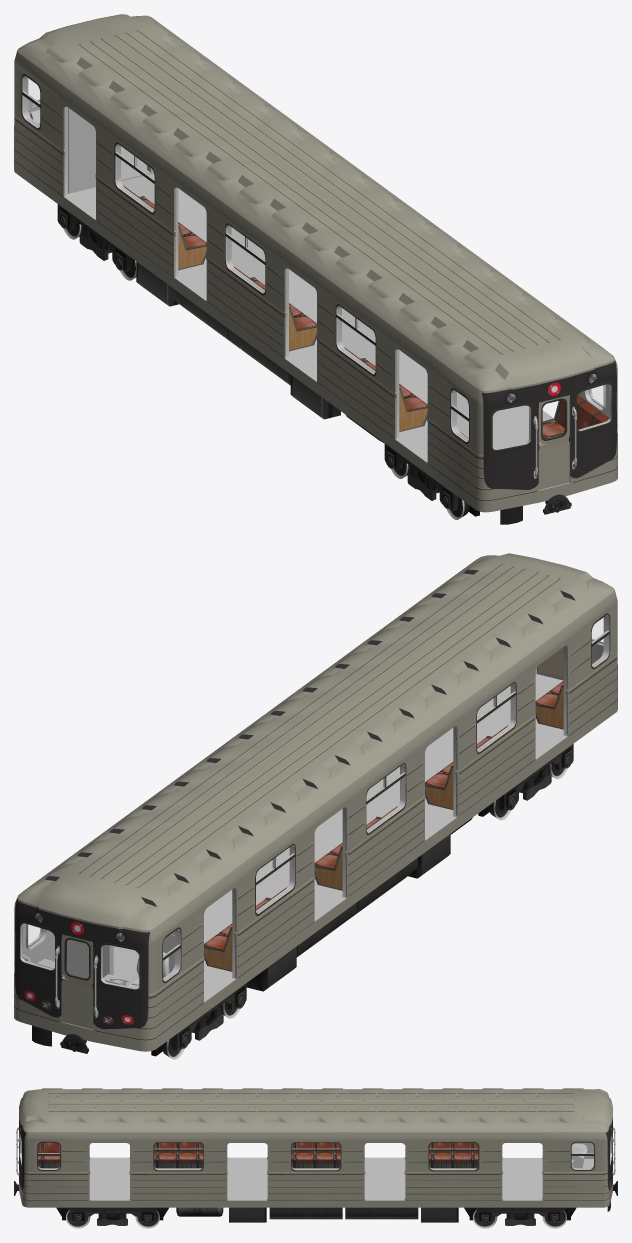
Rendered from SubwayTrain04_Body1.FBX.
3 renders of one model, top to bottom at view 1: azimuth 30°, elevation 25°; view 2: azimuth 150°, elevation 25°; view 3: azimuth 270°, elevation 25°, orthographic. The views are drawn at different scales.
Parts seen in each view (by area): view 1: SubwayTrain04_Roof, SubwayTrain04_Body1, SubwayTrain04_Inter, SubwayTrain04_Wheels, SubwayTrain_Bench02aa, SubwayTrain04_InterEnter, SubwayTrain_Bench02a, SubwayTrain04_DoorF1; view 2: SubwayTrain04_Roof, SubwayTrain04_Body1, SubwayTrain04_Inter, SubwayTrain04_Wheels, SubwayTrain_Bench02a, SubwayTrain04_DoorF2, SubwayTrain_Bench02aa, SubwayTrain04_InterEnter, SubwayTrain04_Inter2; view 3: SubwayTrain04_Body1, SubwayTrain04_Roof, SubwayTrain04_Inter, SubwayTrain04_Wheels, SubwayTrain_Bench02aa, SubwayTrain04_Inter2.
Boxes of the visible parts, x1,y1,x2,y2 form: SubwayTrain04_Roof: [17, 14, 614, 391]; SubwayTrain04_Body1: [14, 50, 617, 512]; SubwayTrain04_Inter: [22, 76, 611, 490]; SubwayTrain04_Wheels: [57, 204, 571, 524]; SubwayTrain_Bench02aa: [123, 185, 608, 438]; SubwayTrain04_InterEnter: [68, 107, 153, 193]; SubwayTrain_Bench02a: [139, 196, 559, 431]; SubwayTrain04_DoorF1: [538, 396, 569, 489]; SubwayTrain04_Roof: [17, 553, 614, 930]; SubwayTrain04_Body1: [14, 590, 617, 1051]; SubwayTrain04_Inter: [20, 615, 609, 1029]; SubwayTrain04_Wheels: [32, 744, 573, 1059]; SubwayTrain_Bench02a: [204, 685, 563, 971]; SubwayTrain04_DoorF2: [61, 935, 93, 1029]; SubwayTrain_Bench02aa: [204, 658, 599, 949]; SubwayTrain04_InterEnter: [66, 931, 174, 985]; SubwayTrain04_Inter2: [22, 924, 174, 1017]; SubwayTrain04_Body1: [19, 1117, 612, 1207]; SubwayTrain04_Roof: [19, 1088, 612, 1132]; SubwayTrain04_Inter: [19, 1133, 612, 1200]; SubwayTrain04_Wheels: [14, 1181, 617, 1228]; SubwayTrain_Bench02aa: [38, 1142, 478, 1168]; SubwayTrain04_Inter2: [16, 1127, 615, 1176].
Bounding box in the file's own units: 4082 × 4898 × 24396.
